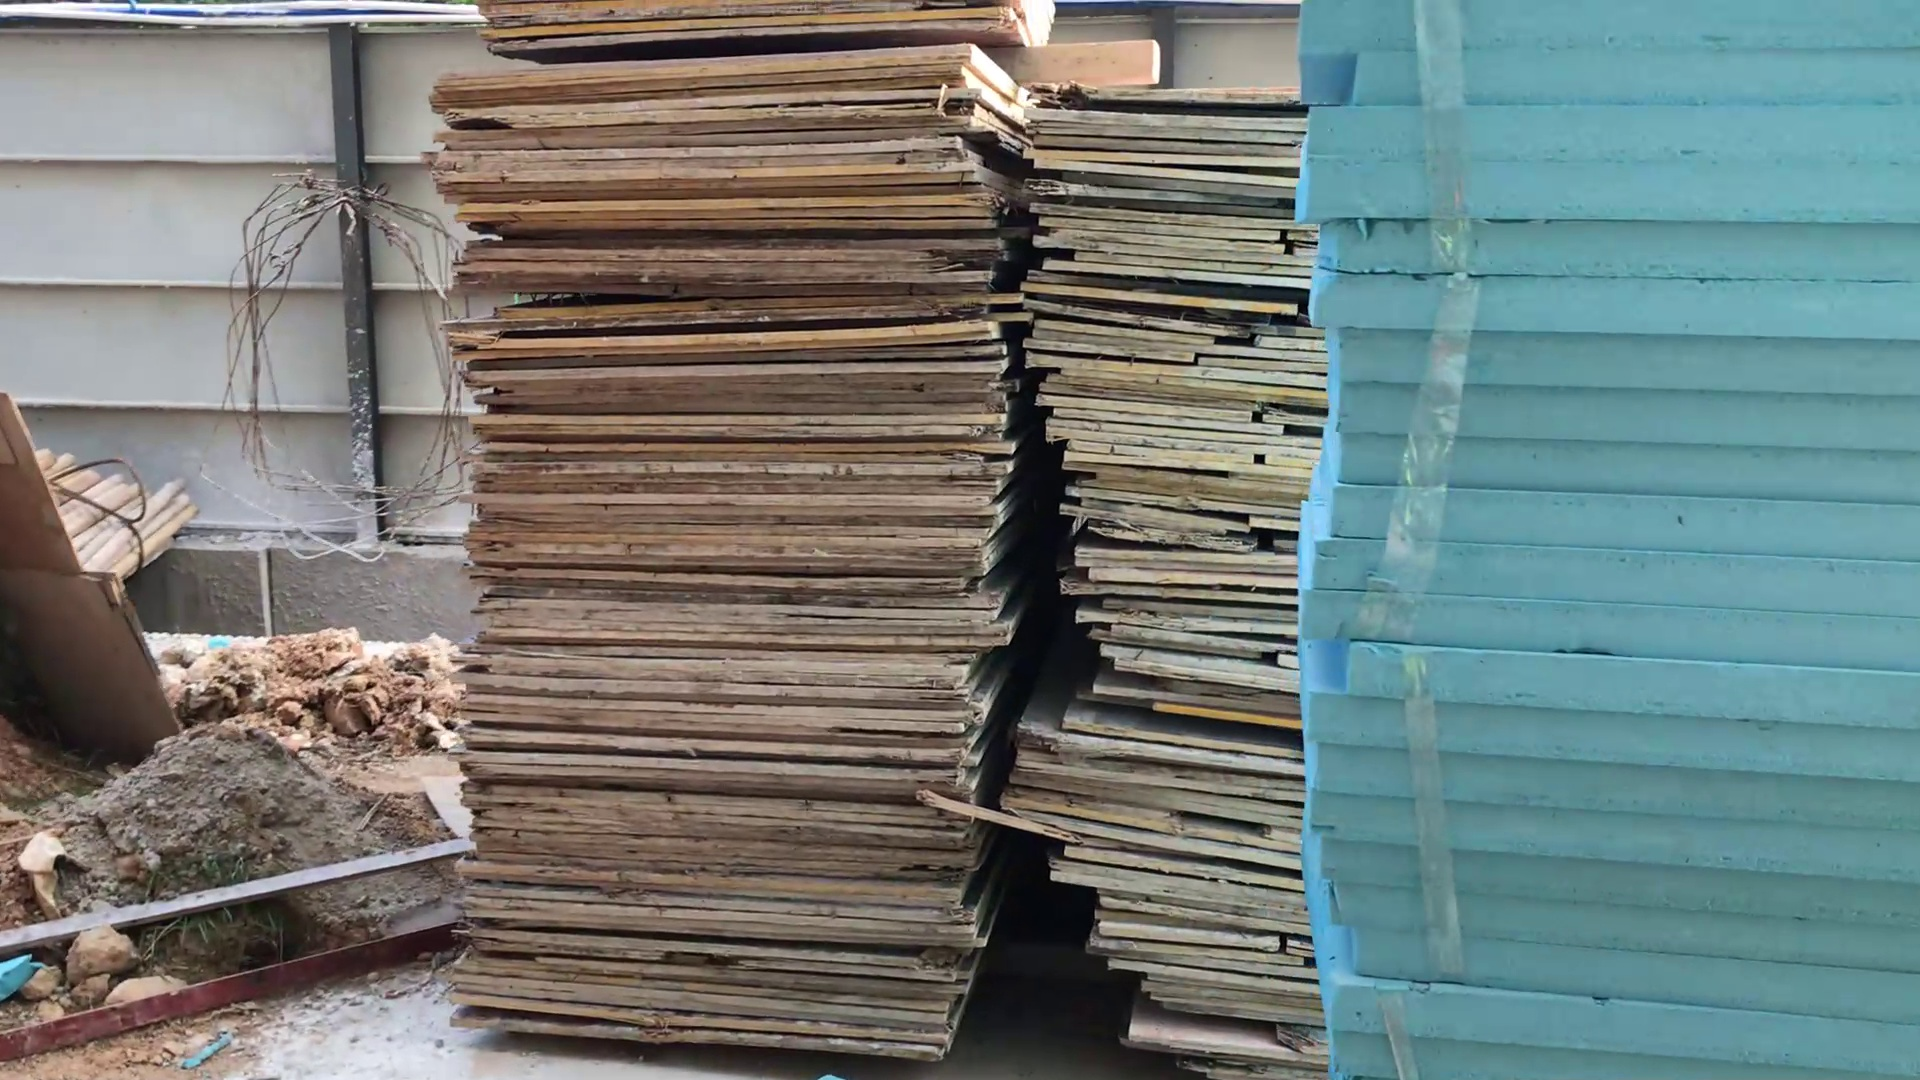board: (438, 1, 1333, 1079)
